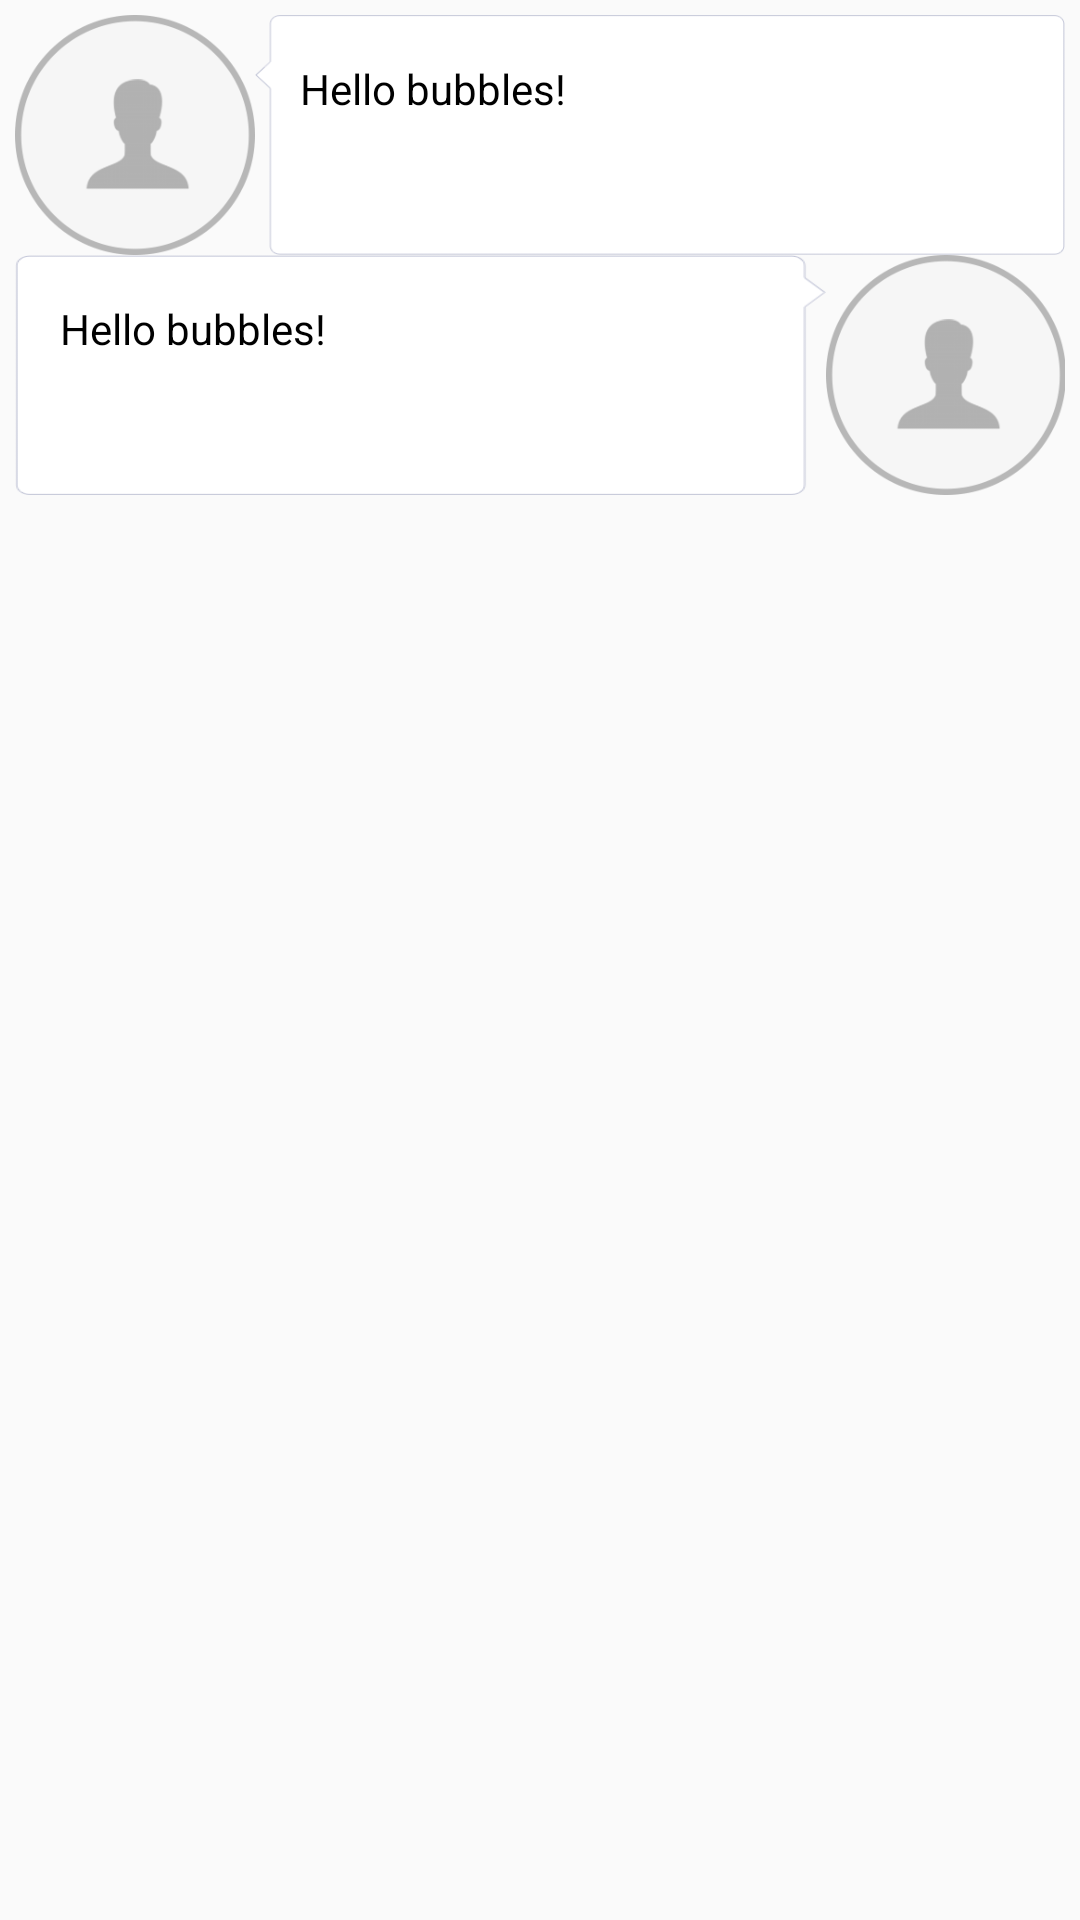

Point at icon controls on the screen. Image size 1080*1920, points as point (x, y).
profileplaceholder: point (135, 135), point (948, 374)
